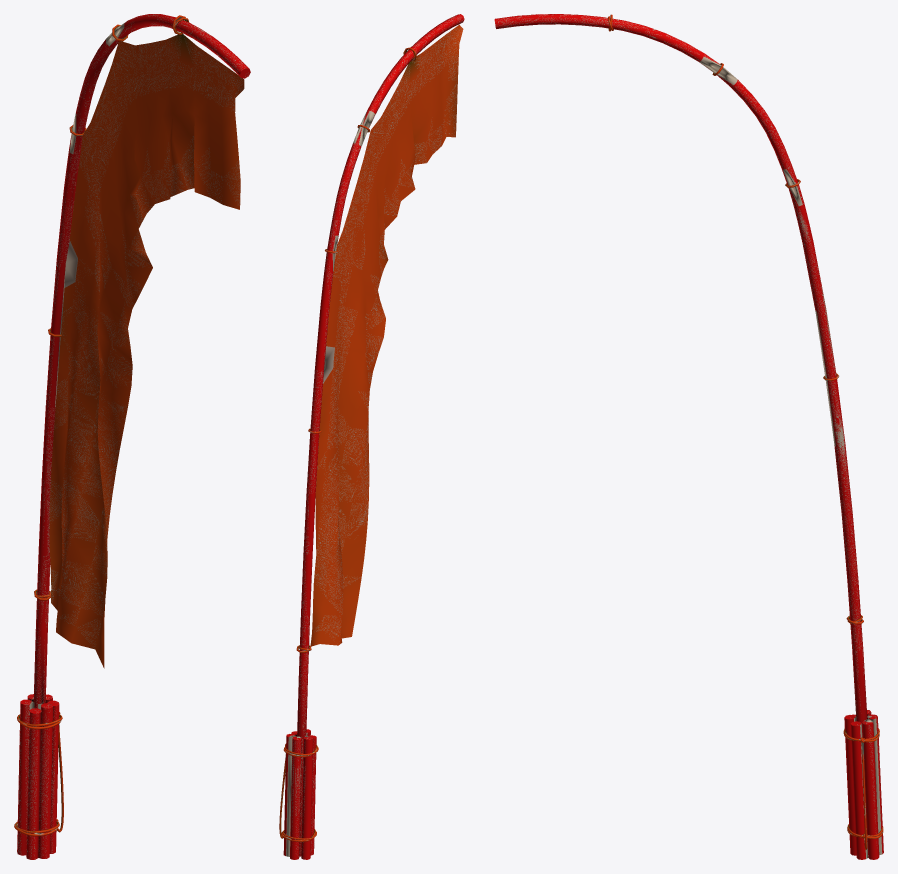
Rendered from KB3D_GAE_Flag_F.glb.
The picture shows the model from 3 angles, left to right: view 1: azimuth 30°, elevation 25°; view 2: azimuth 150°, elevation 25°; view 3: azimuth 270°, elevation 25°; orthographic projection. The views are drawn at different scales.
Visible parts, largest first — view 1: L0, L2; view 2: L0, L2; view 3: L0, L2.
Part boxes in pixels (box(x1,y1,x2,y2)): L0: box(14, 14, 250, 859); L2: box(14, 14, 249, 858); L0: box(279, 14, 464, 859); L2: box(281, 14, 463, 859); L0: box(494, 14, 883, 859); L2: box(495, 14, 883, 858).
Size of the model in its own units: 0.423 by 8.31 by 3.51.
